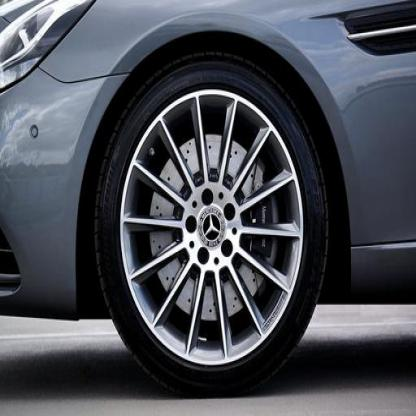Tire: (95, 52, 328, 394)
